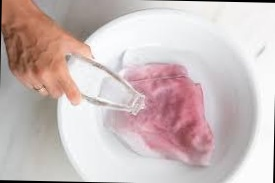wine: (112, 61, 210, 159)
